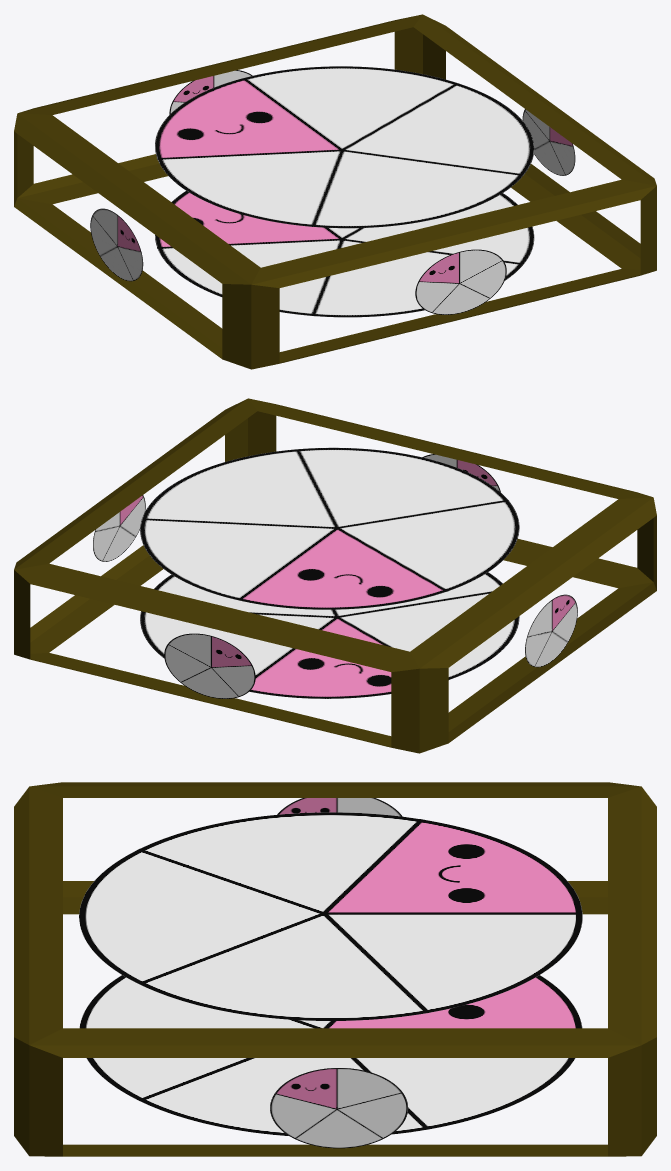
The model's file is Fracciones un quinto.fbx.
3 renders of one model, top to bottom at view 1: azimuth 30°, elevation 25°; view 2: azimuth 150°, elevation 25°; view 3: azimuth 270°, elevation 25°, orthographic. The views are drawn at different scales.
Parts seen in each view (by area): view 1: 1/5; view 2: 1/5; view 3: 1/5.
Part boxes in pixels (bbox=[...]): 1/5: bbox=[14, 14, 656, 369]; 1/5: bbox=[14, 398, 656, 753]; 1/5: bbox=[14, 782, 656, 1156].
Size of the model in its own units: 213 by 42 by 210.
2 materials, 1 textured.
